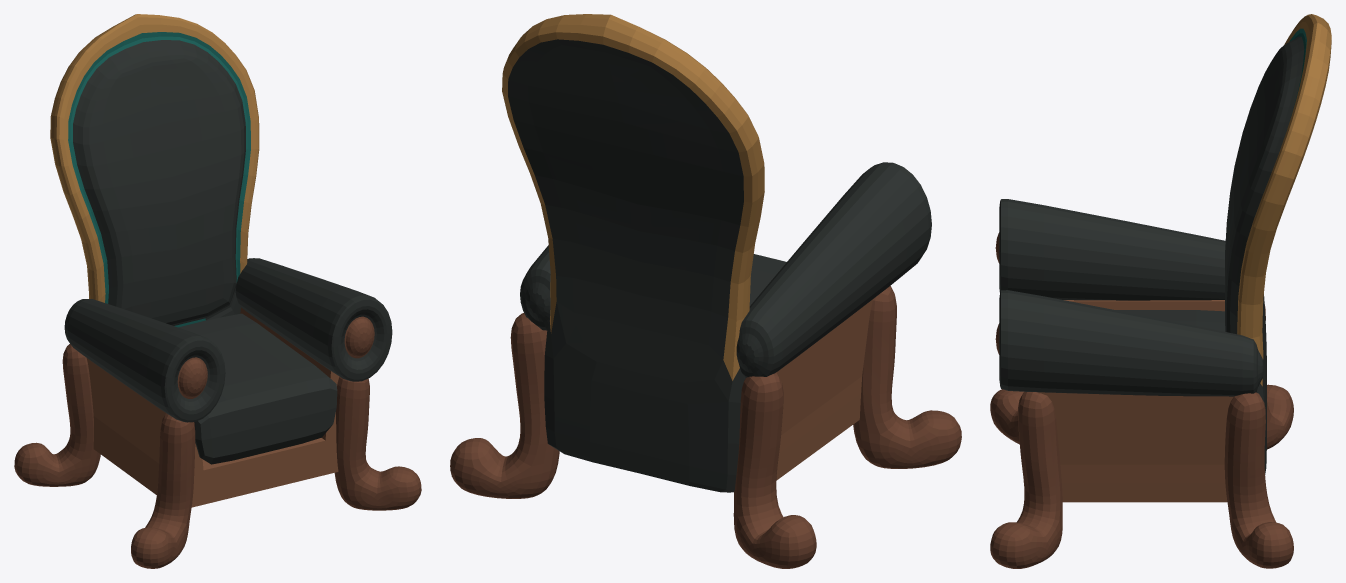
File: Victorian_Chair.fbx
The picture shows the model from 3 angles, left to right: view 1: azimuth 30°, elevation 25°; view 2: azimuth 150°, elevation 25°; view 3: azimuth 270°, elevation 25°; orthographic projection. The views are drawn at different scales.
Parts seen in each view (by area): view 1: Chair Fanxy; view 2: Chair Fanxy; view 3: Chair Fanxy.
Boxes of the visible parts, x1,y1,x2,y2 form: Chair Fanxy: [14, 14, 421, 568]; Chair Fanxy: [450, 14, 961, 568]; Chair Fanxy: [990, 14, 1331, 568].
Size of the model in its own units: 35.46 by 50.32 by 32.67.
